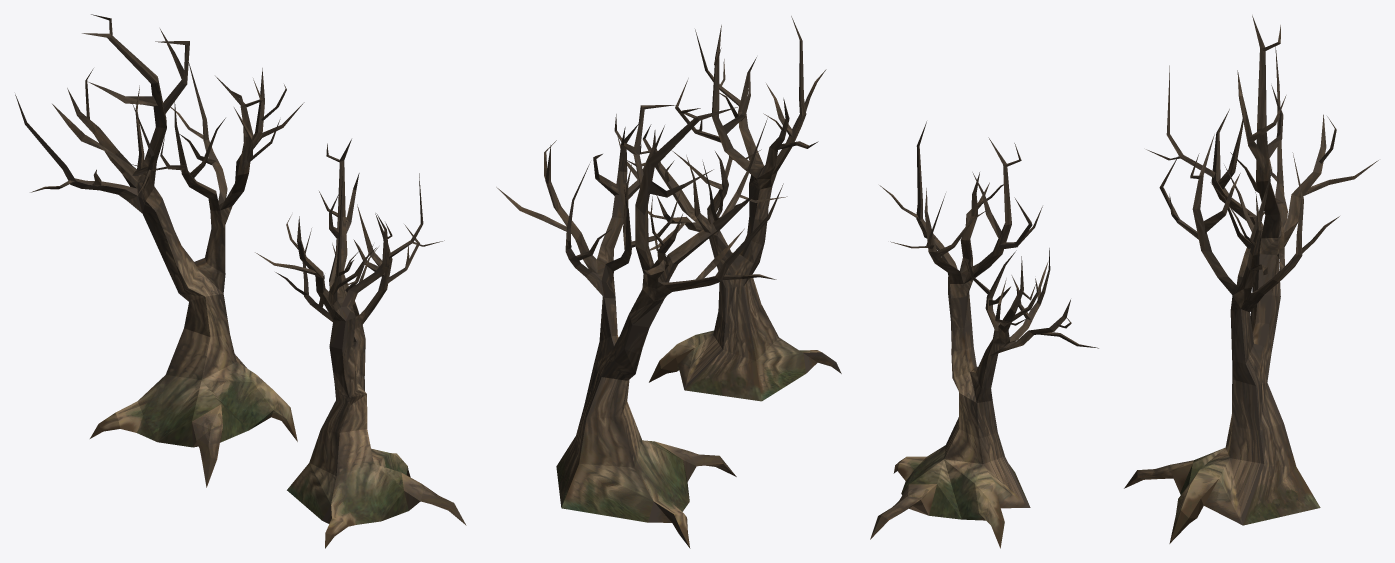
File: plants_tall_tree_trunks213.fbx
3 views of the same model, side by side, from view 1: azimuth 30°, elevation 25°; view 2: azimuth 150°, elevation 25°; view 3: azimuth 270°, elevation 25° (orthographic). The views are drawn at different scales.
Visible parts, largest first — view 1: obj0.164; view 2: obj0.164; view 3: obj0.164.
Boxes of the visible parts, x1,y1,x2,y2 form: obj0.164: (15,14,466,548); obj0.164: (496,16,841,548); obj0.164: (870,15,1378,548).
Size of the model in its own units: 6.63 by 9.49 by 9.82.
